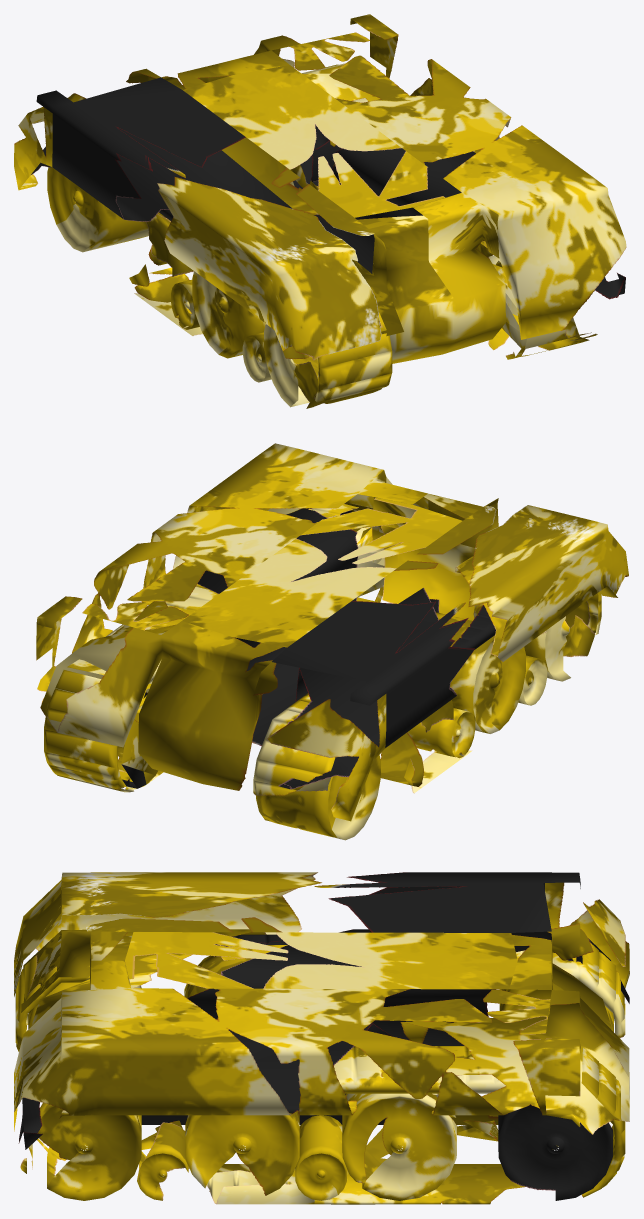
Rendered from tank_yellow_bottom.obj.
3 views of the same model, one above another, from view 1: azimuth 30°, elevation 25°; view 2: azimuth 150°, elevation 25°; view 3: azimuth 270°, elevation 25° (orthographic). The views are drawn at different scales.
Parts seen in each view (by area): view 1: Group1; view 2: Group1; view 3: Group1.
Boxes of the visible parts, x1,y1,x2,y2 form: Group1: [14, 14, 626, 408]; Group1: [36, 443, 628, 840]; Group1: [14, 872, 629, 1204].
Bounding box in the file's own units: 18.78 × 8.46 × 27.62.
